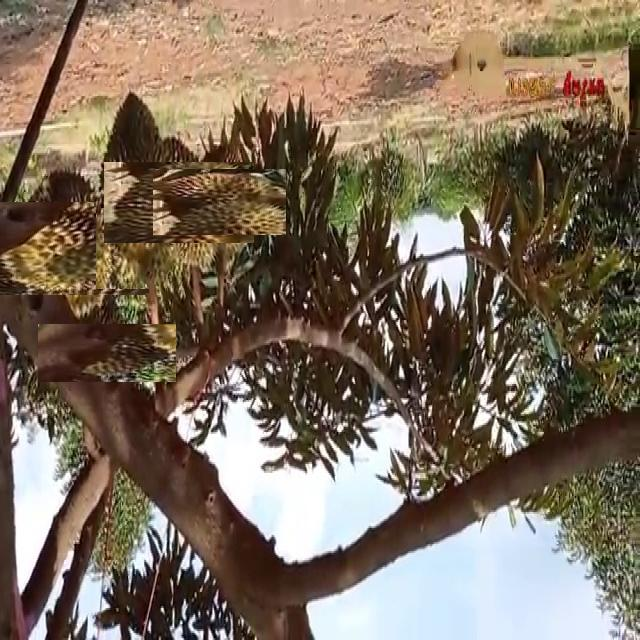durian: (96, 85, 180, 289), (5, 185, 133, 312), (121, 144, 236, 260), (170, 152, 270, 252), (58, 304, 157, 402)
